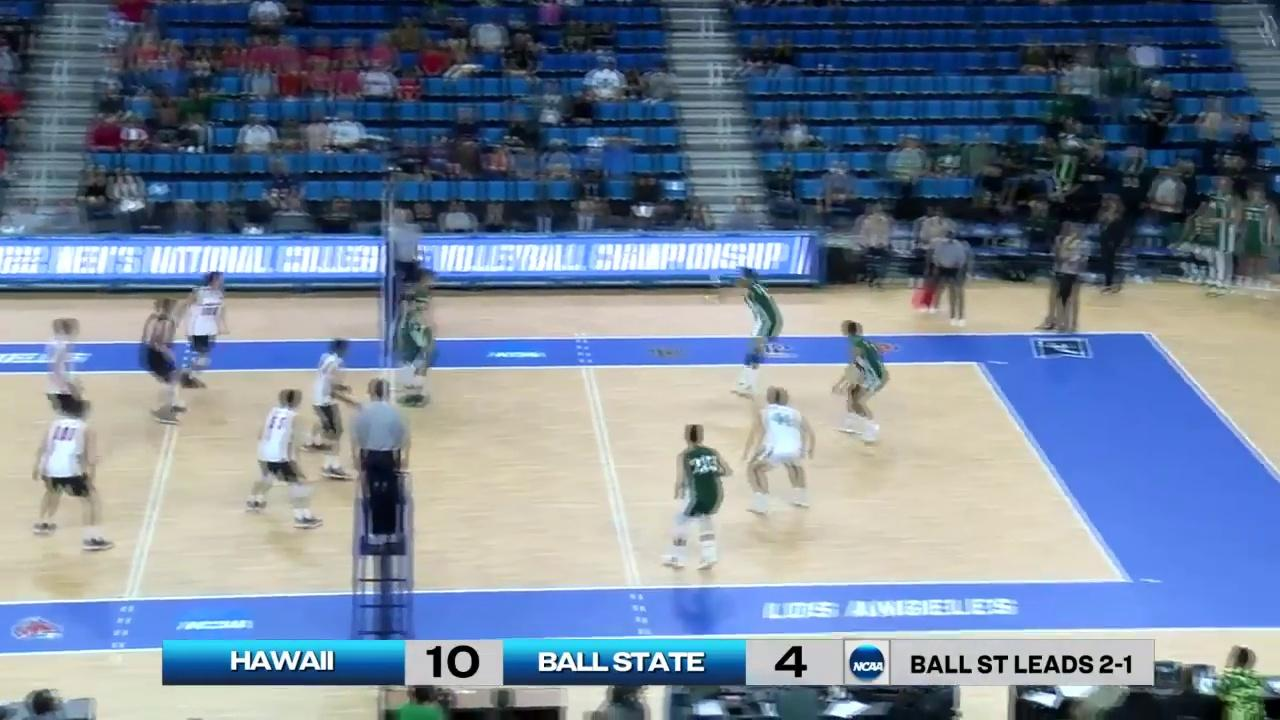player: (34, 401, 111, 555), (244, 387, 324, 533), (662, 424, 732, 571), (744, 386, 815, 517), (305, 337, 359, 479), (175, 270, 234, 392), (831, 322, 890, 442), (727, 266, 783, 392), (136, 299, 190, 427), (40, 317, 90, 448), (403, 267, 447, 388), (396, 296, 439, 412)
refree: (356, 379, 410, 540), (917, 231, 969, 324), (387, 207, 422, 314)
